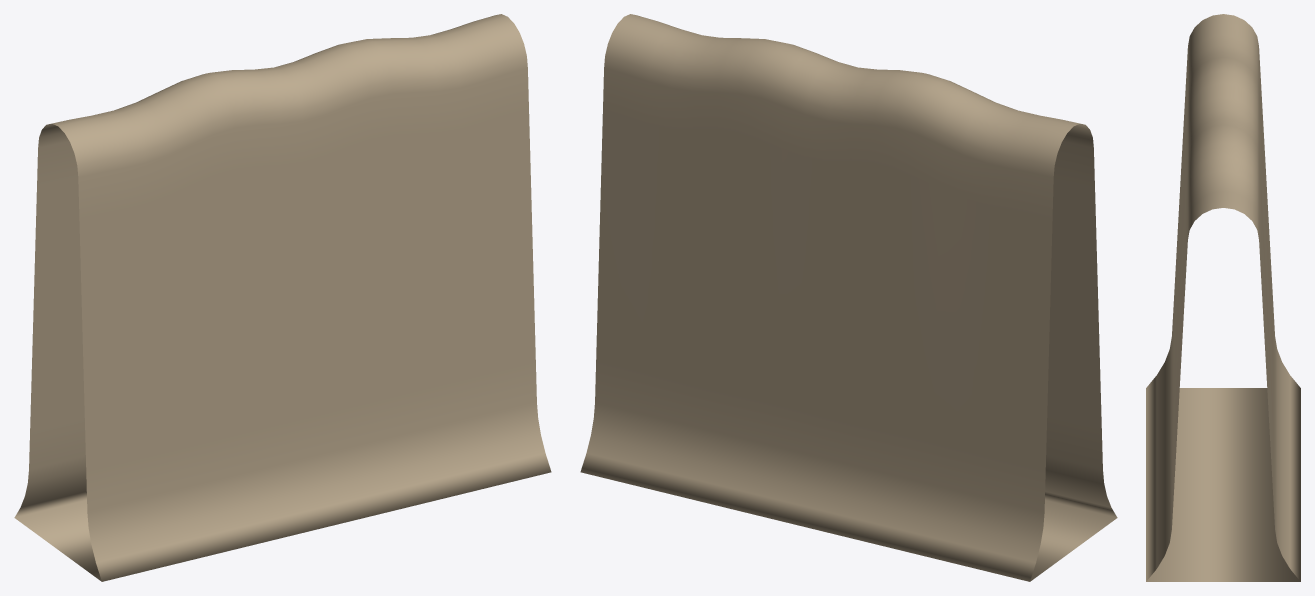
Rendered from KFB_Wall_straight_b.r3.glb.
The picture shows the model from 3 angles, left to right: view 1: azimuth 30°, elevation 25°; view 2: azimuth 150°, elevation 25°; view 3: azimuth 270°, elevation 25°; orthographic projection. The views are drawn at different scales.
Visible parts, largest first — view 1: KFB_Wall_straight_b; view 2: KFB_Wall_straight_b; view 3: KFB_Wall_straight_b.
Boxes of the visible parts, bbox=[...] form: KFB_Wall_straight_b: bbox=[14, 14, 551, 581]; KFB_Wall_straight_b: bbox=[580, 14, 1117, 581]; KFB_Wall_straight_b: bbox=[1146, 14, 1300, 581].
Size of the model in its own units: 4 by 3.71 by 1.35.
